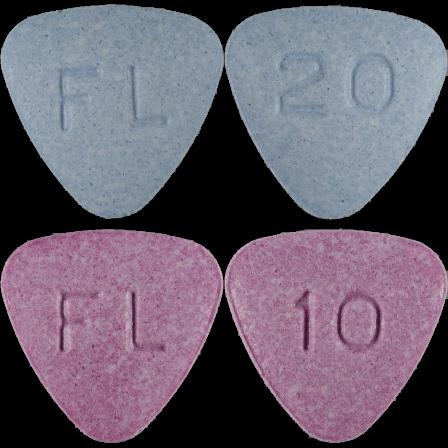55154-4622: (0, 0, 224, 224)
